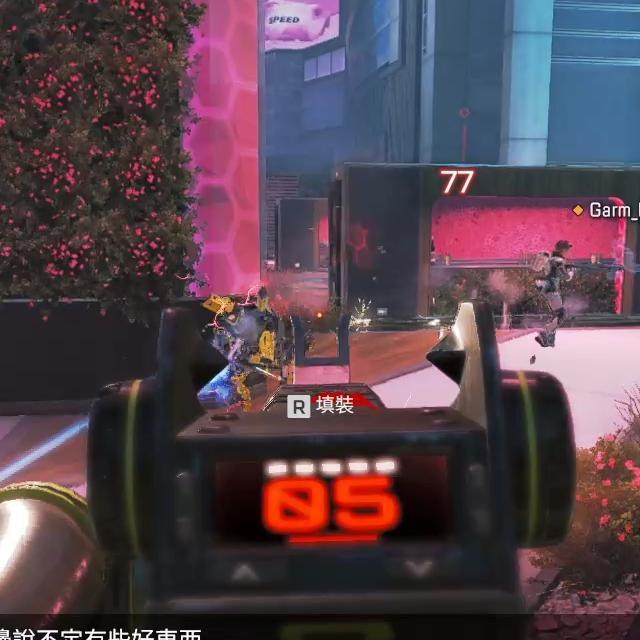avatar: (198, 287, 297, 414), (532, 237, 576, 349)
